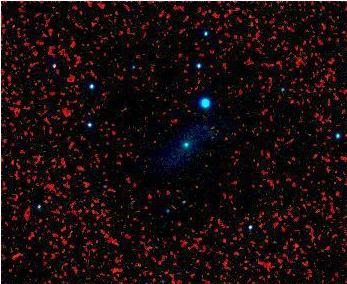star: (74, 98, 104, 128)
